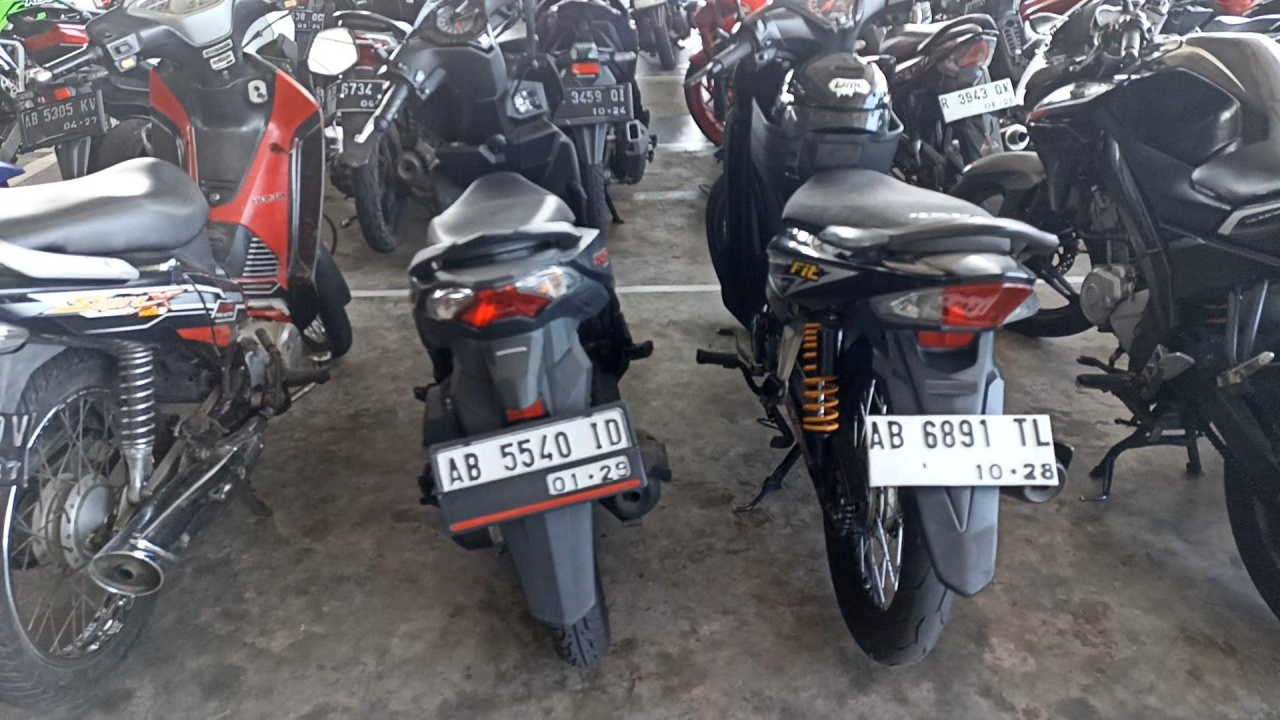plate: (431, 404, 645, 534), (866, 413, 1060, 489), (21, 92, 102, 148)
